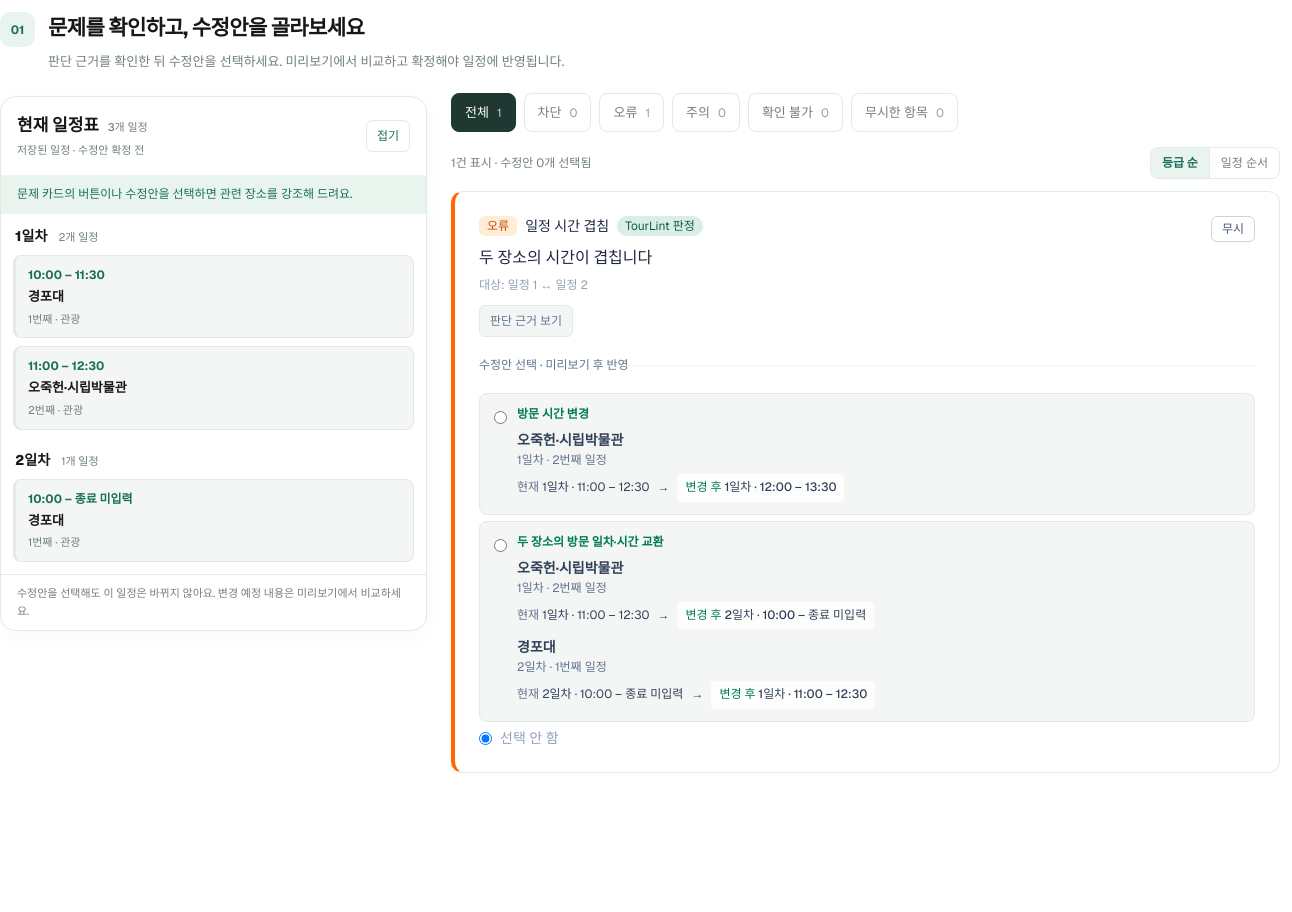
검수 중 현재 일정 참조 (#570) › 접은 일정을 다시 펼치고 필터 결과가 없어도 유지한다
The image size is (1292, 912).
Click the button "접기": (388, 136) [366,120,410,152]
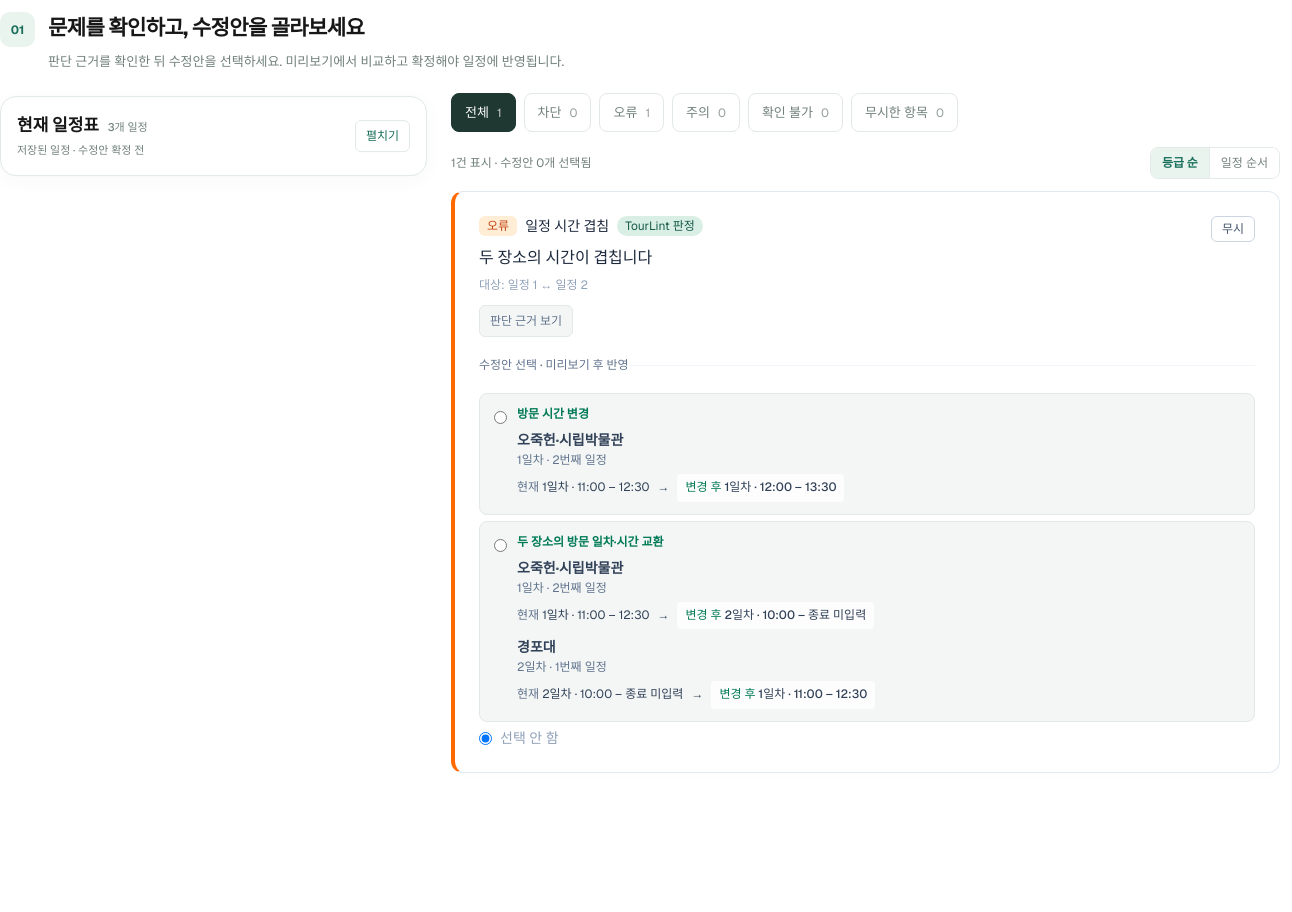
Click the button "펼치기": (382, 136) [355,120,410,152]
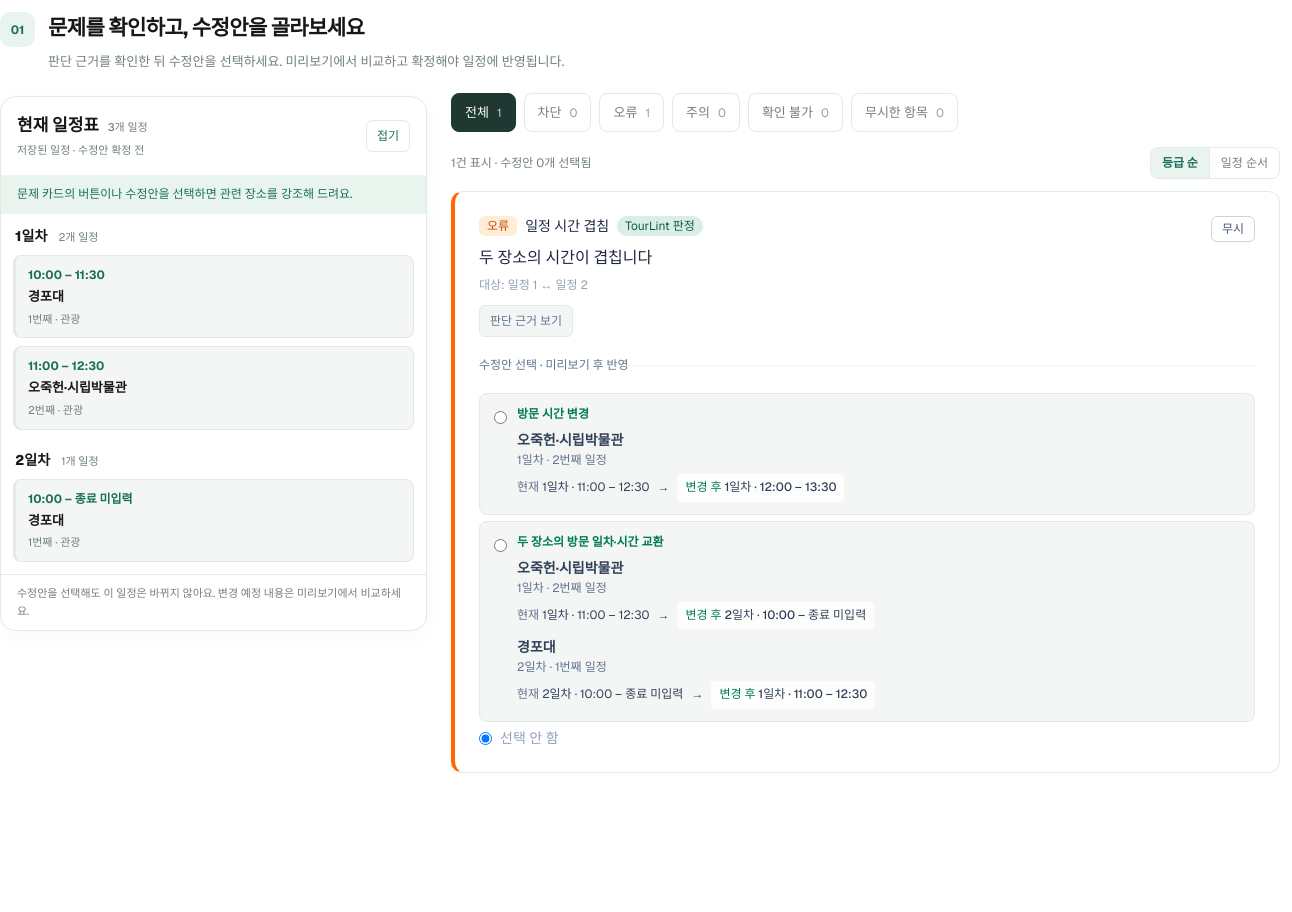
Click the button "차단0": (558, 113) [524,93,592,132]
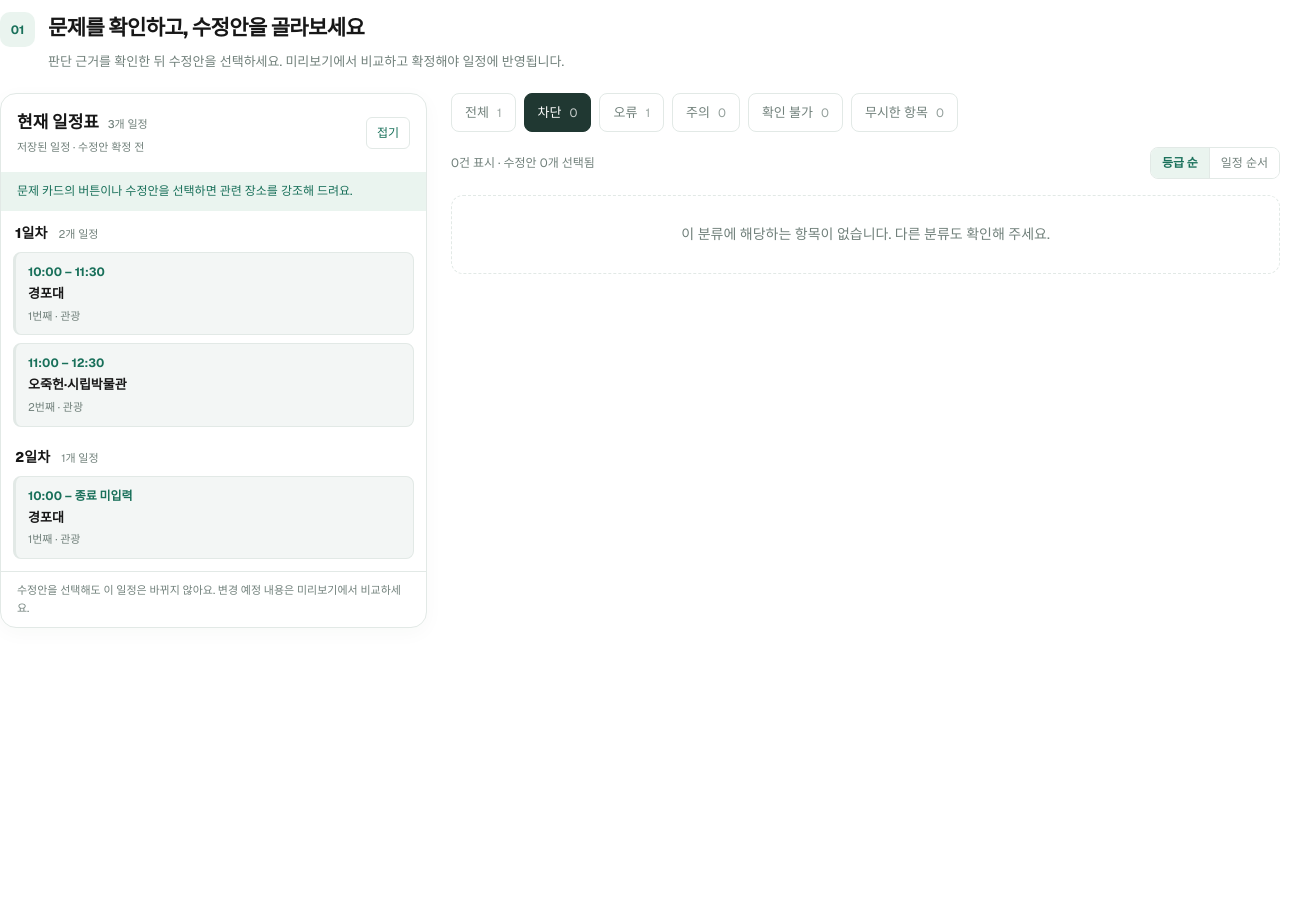
Now the number of list items is 3, box [13,252,414,335]; [13,343,414,427]; [13,476,414,559]
Now the text "이 분류에 해당하는 항목이 없습니다" is shown, box [681,225,1050,243]
